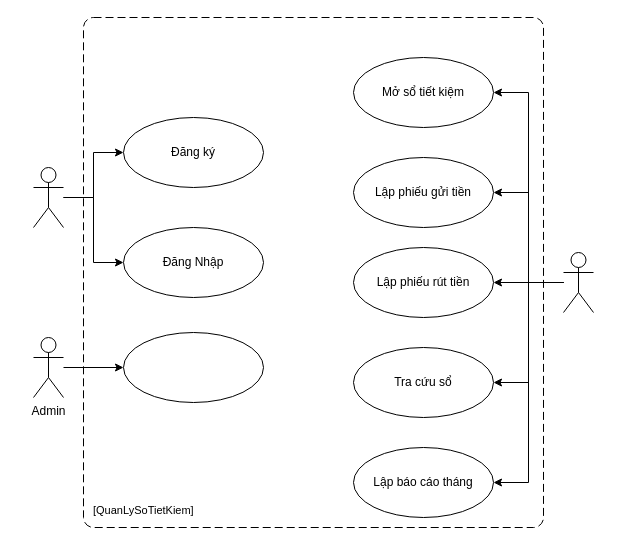
The diagram is 628 pixels wide and 545 high, and some of its shapes have lost their labels. Each missing label, with the box of its shape:
Anonymous: (32, 166, 64, 228)
Khách hàng: (562, 252, 594, 312)
Thay đổi qui định: (122, 332, 264, 402)
